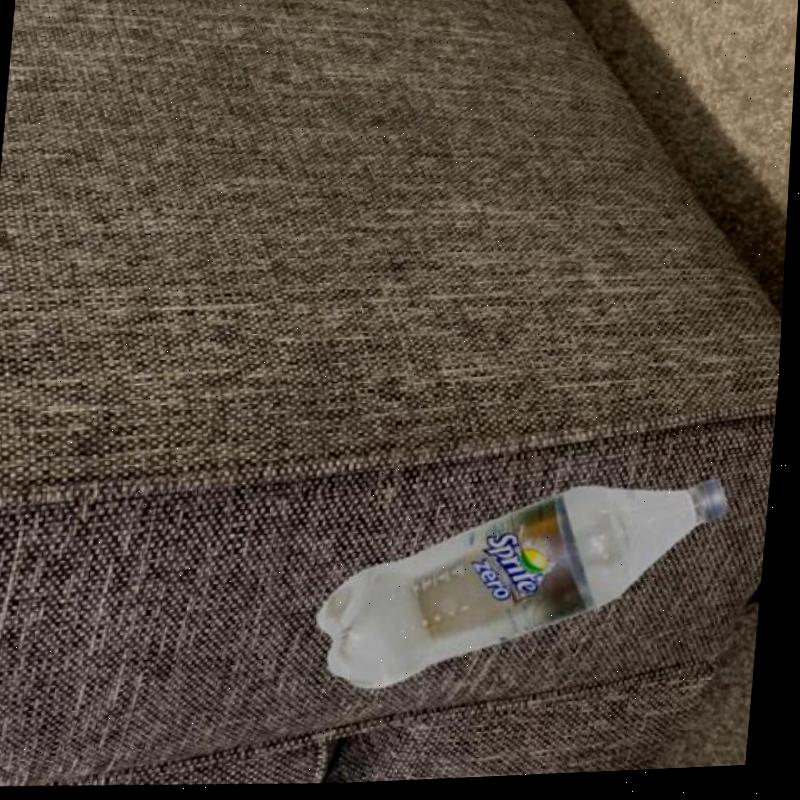botella: (312, 469, 734, 716)
